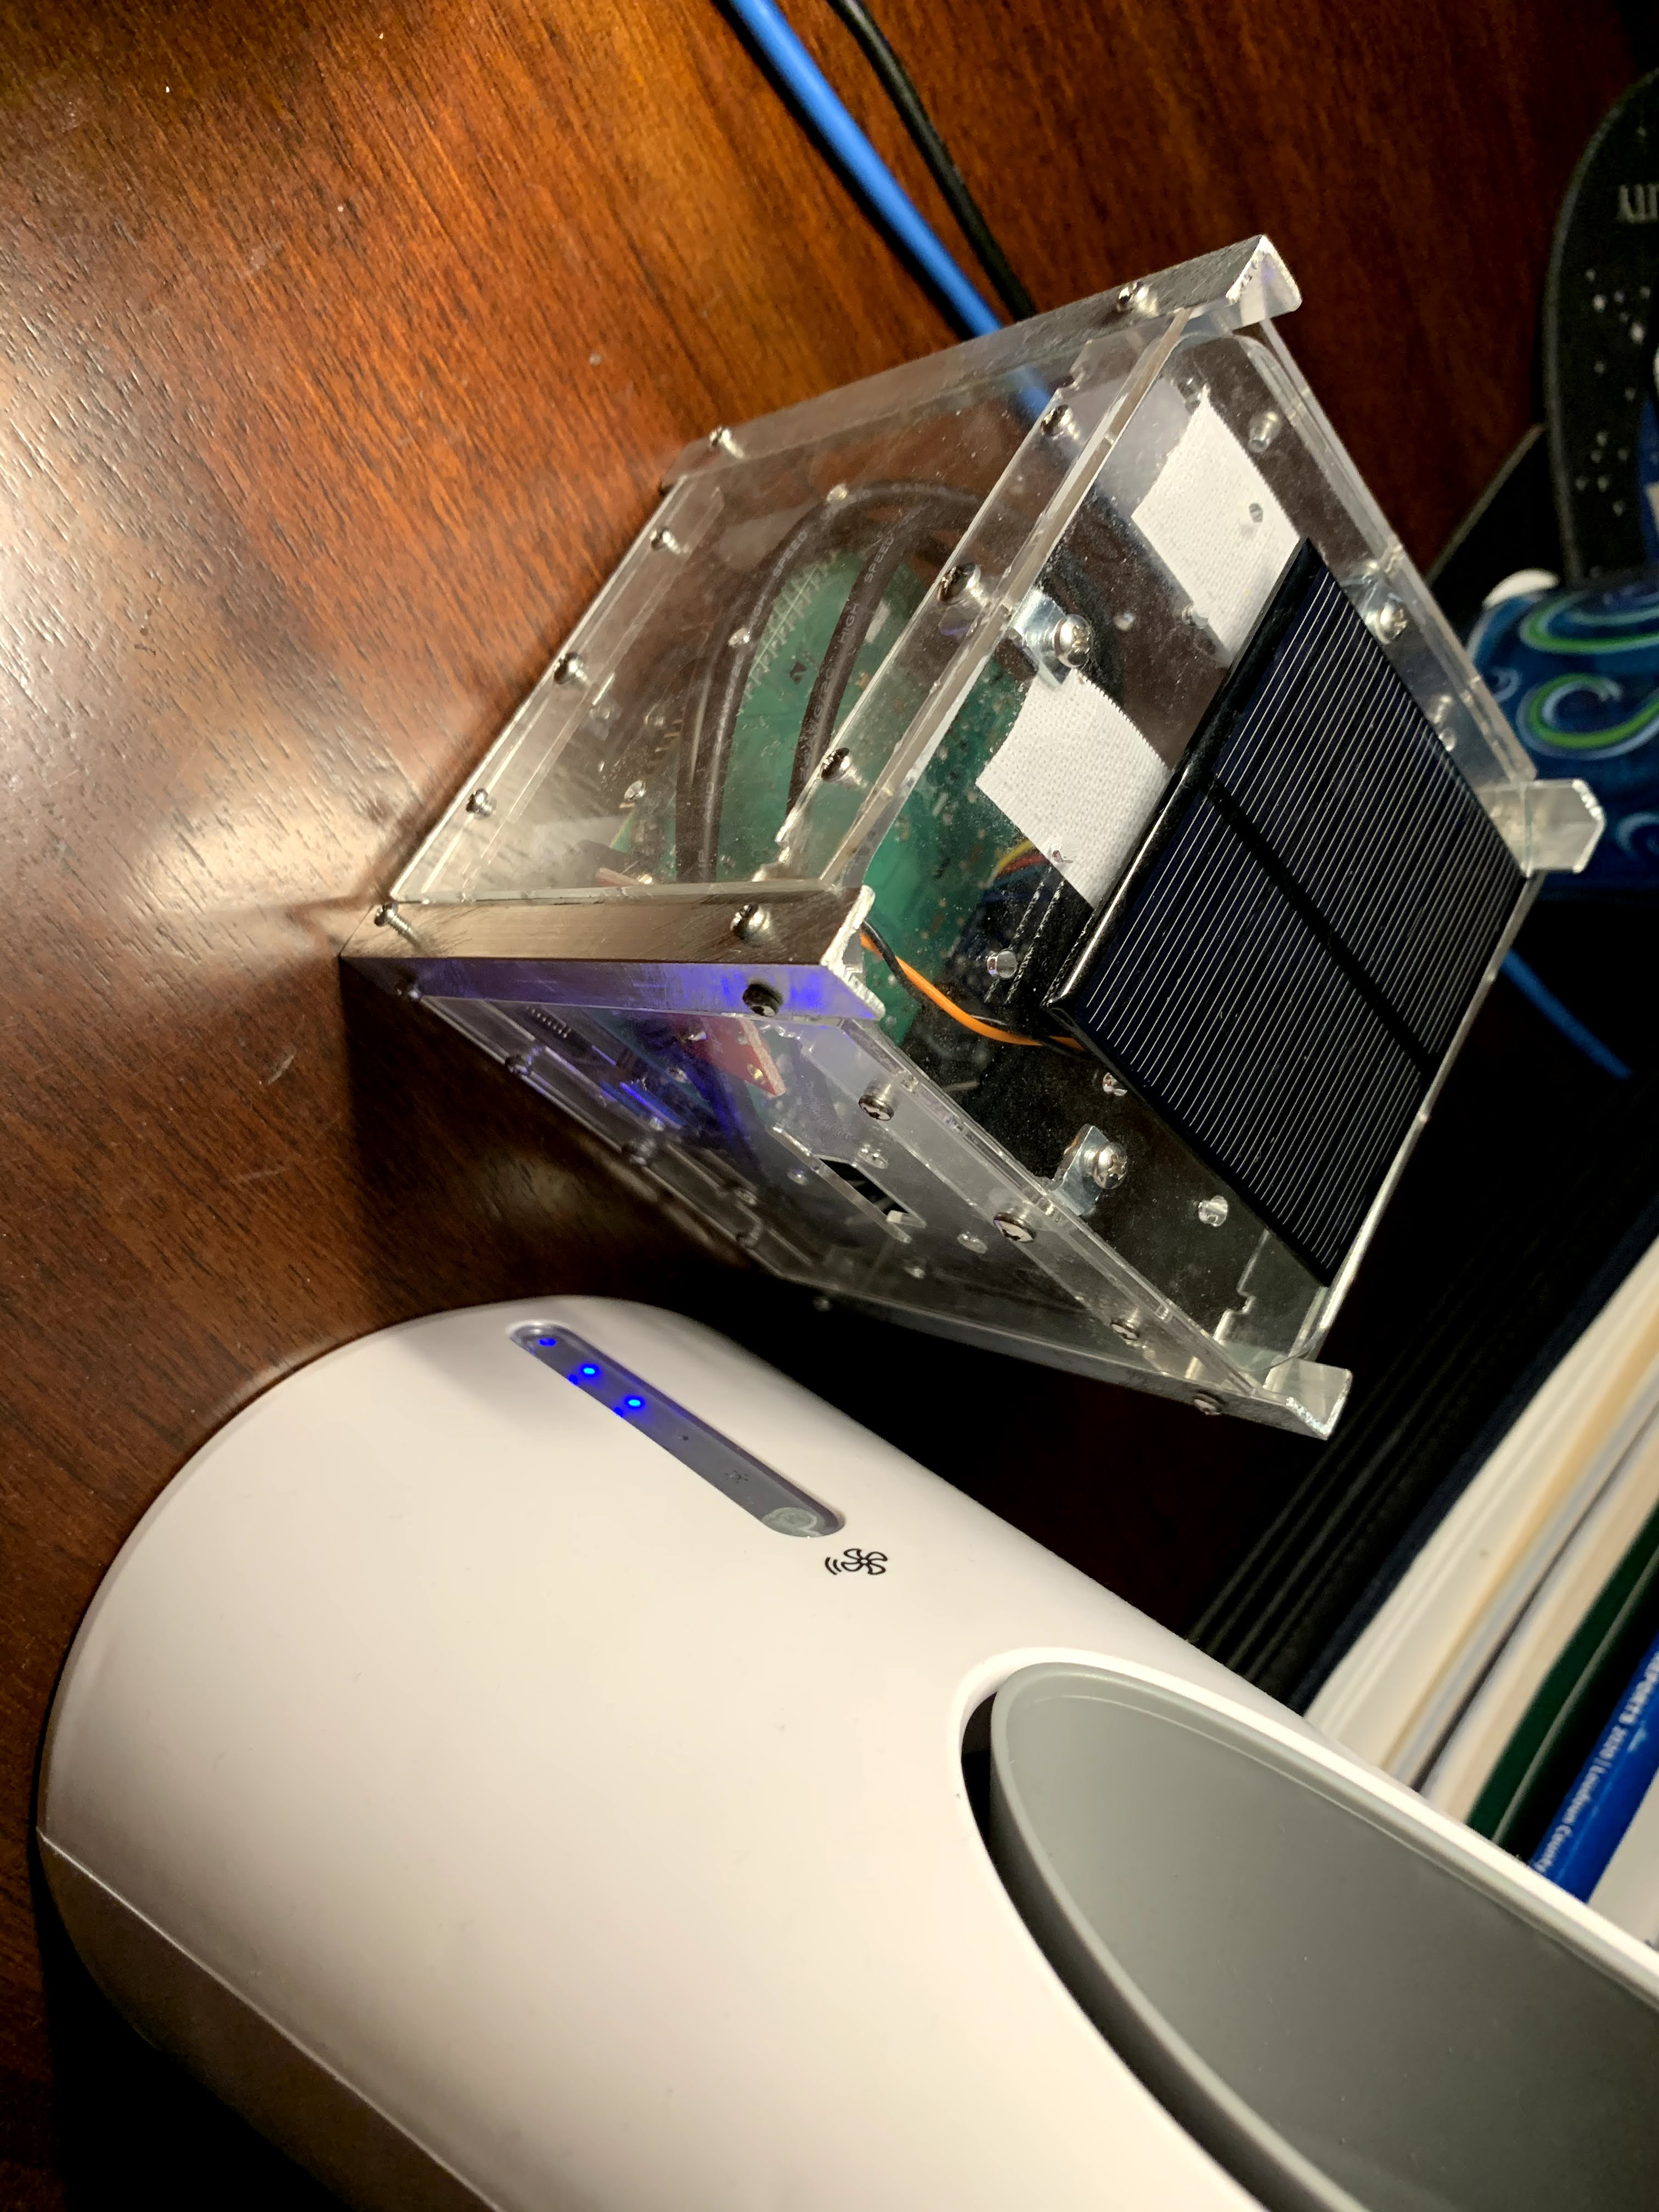Space-debris-cubesat: (342, 216, 1622, 1433)
